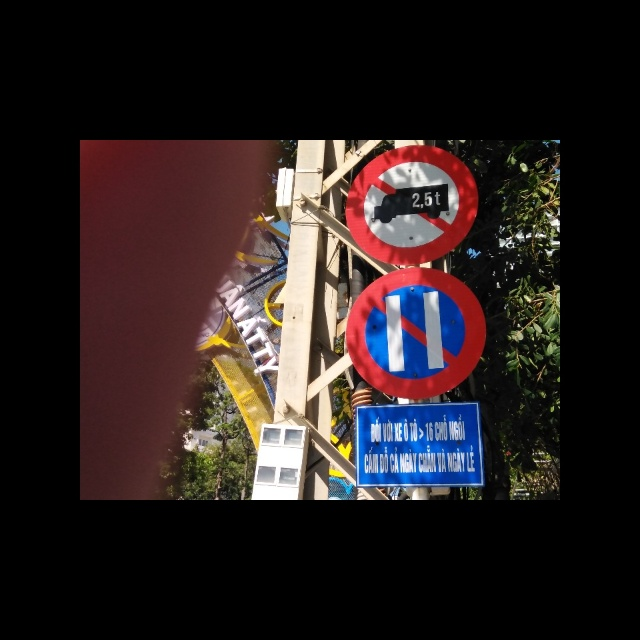Cấm xe tải: (347, 143, 479, 260)
Cấm đỗ xe ngày chẵn: (346, 267, 492, 398)
